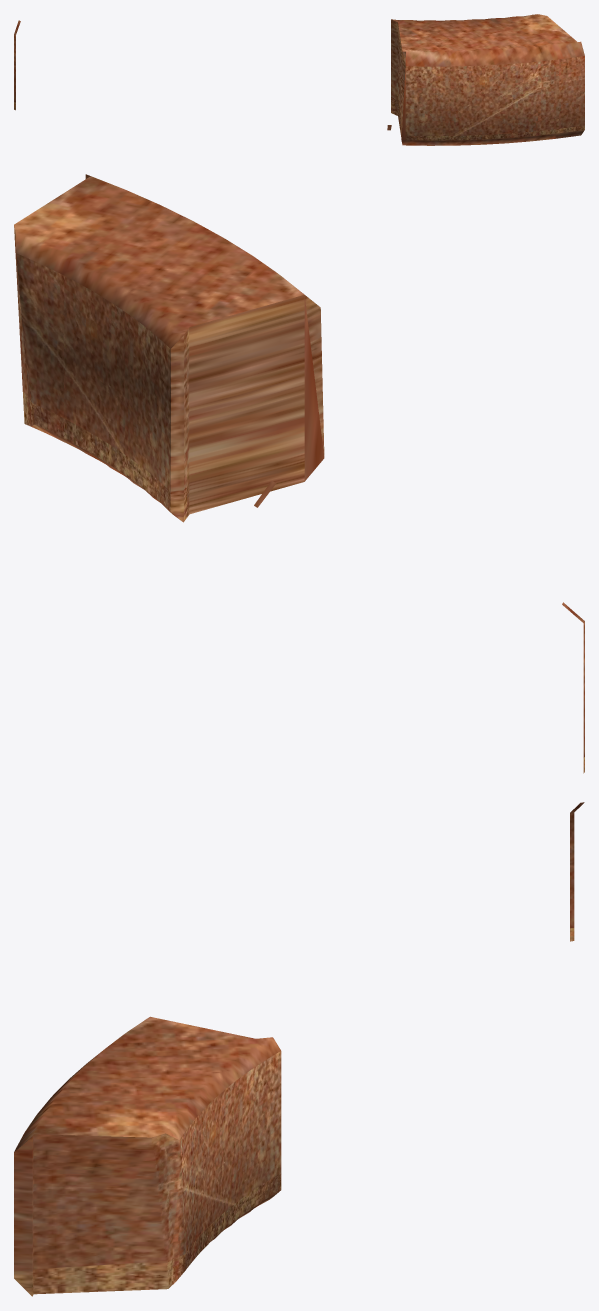
The model's file is 割れた歯車5Ａ 破片2.fbx.
The picture shows the model from 3 angles, top to bottom: view 1: azimuth 30°, elevation 25°; view 2: azimuth 150°, elevation 25°; view 3: azimuth 270°, elevation 25°; orthographic projection. The views are drawn at different scales.
Visible parts, largest first — view 1: obj2; view 2: obj2; view 3: obj2.
Part boxes in pixels (x1,y1,x2,y2): obj2: (14,14,584,145); obj2: (14,174,584,773); obj2: (14,802,584,1296).
Bounding box in the file's own units: 99.31 × 21.88 × 70.31.
1 material, 1 textured.
